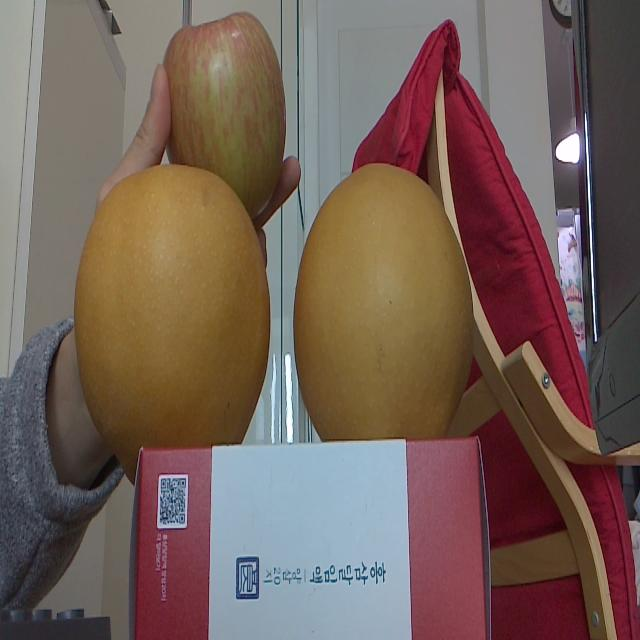apple: (160, 9, 290, 219)
pear: (72, 160, 274, 447), (293, 154, 478, 440)
